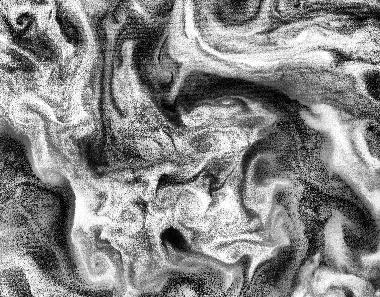CE: (81, 250, 116, 283), (11, 8, 32, 31)
